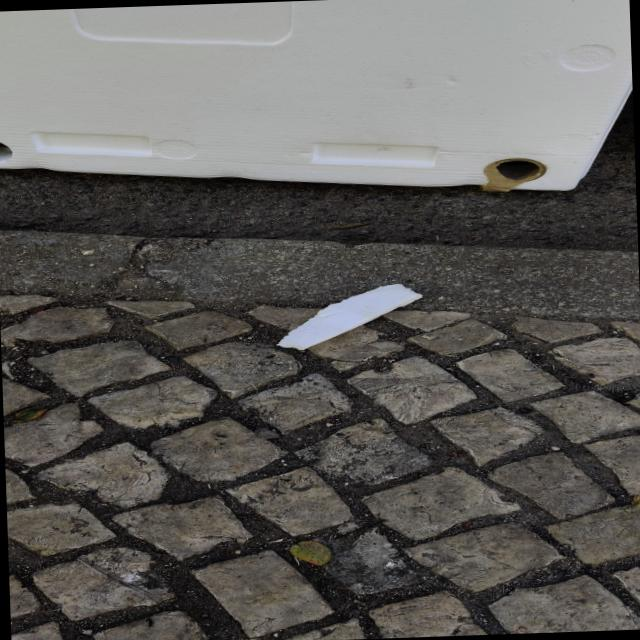less trash: (278, 283, 421, 350)
